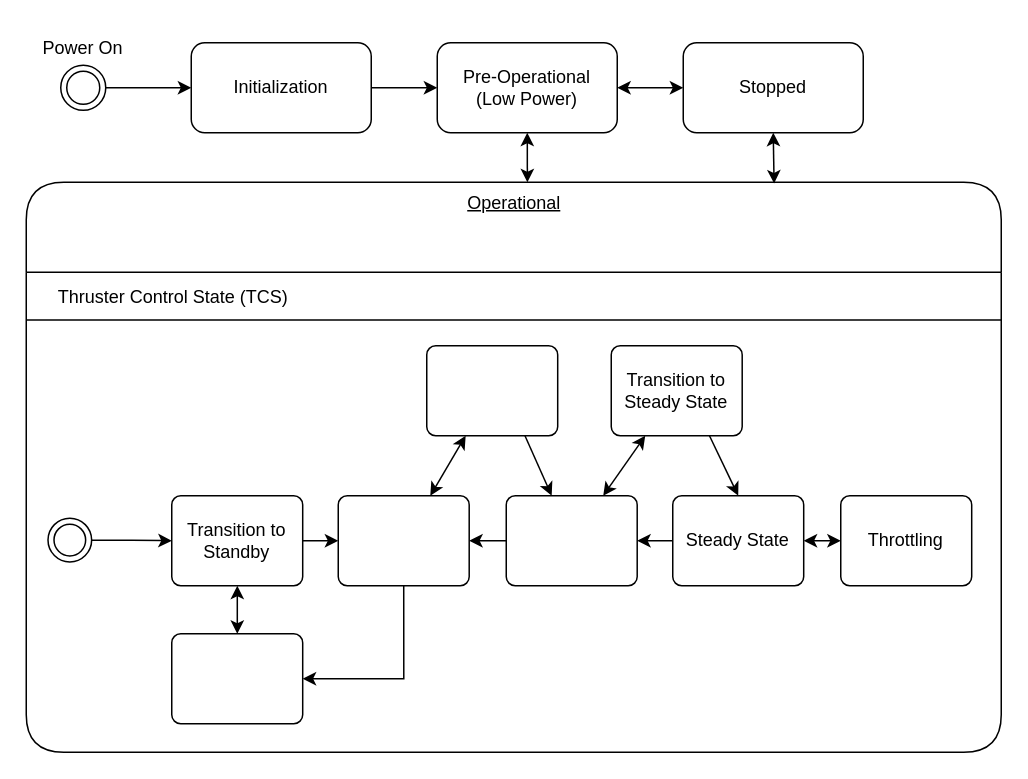
This 1028x779 diagram has some shape labels left out. The centre of each missing label's shape, as x and y in pixels:
"Lockout" goes at (236,678).
"Ready Mode" goes at (571,540).
"Standby" goes at (403,540).
"Transition to Ready Mode" goes at (491,390).
